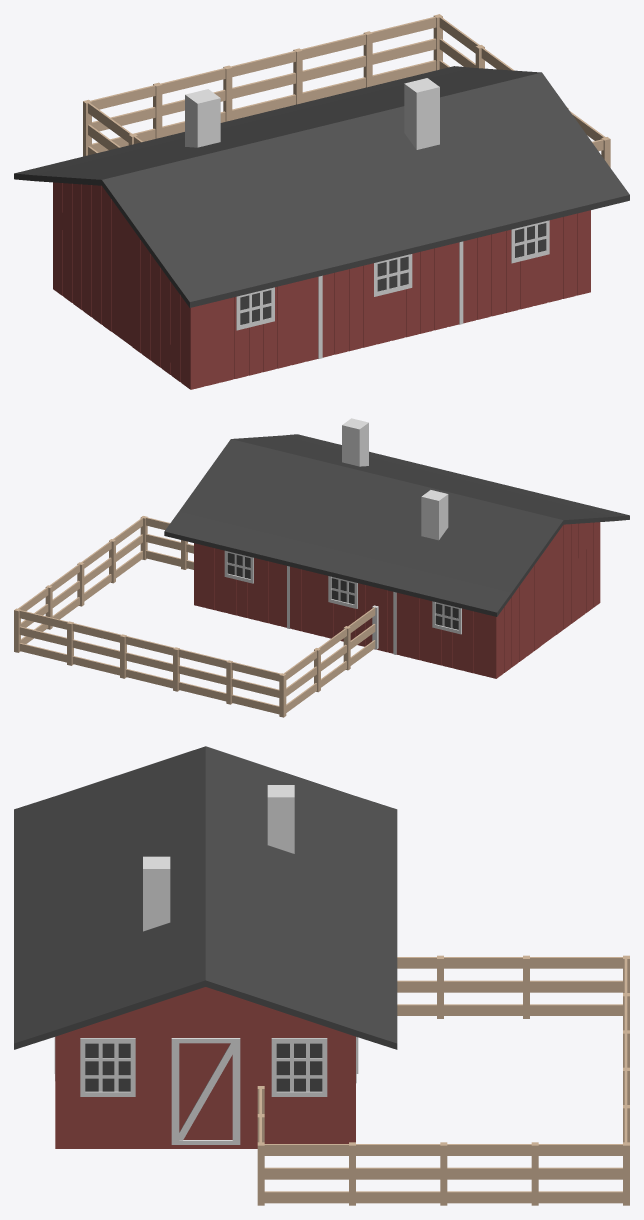
The model's file is Farm.gltf.
3 renders of one model, top to bottom at view 1: azimuth 30°, elevation 25°; view 2: azimuth 150°, elevation 25°; view 3: azimuth 270°, elevation 25°, orthographic. The views are drawn at different scales.
Visible parts, largest first — view 1: node-0; view 2: node-0; view 3: node-0.
Part boxes in pixels (x1,y1,x2,y2): node-0: (14,14,629,389); node-0: (14,418,629,717); node-0: (14,746,629,1205).
Size of the model in its own units: 14992 by 5467 by 13778.
